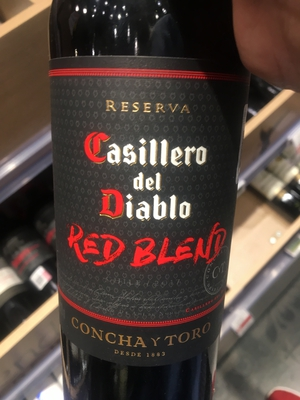casillero del diablo red blend: (37, 25, 248, 400)
